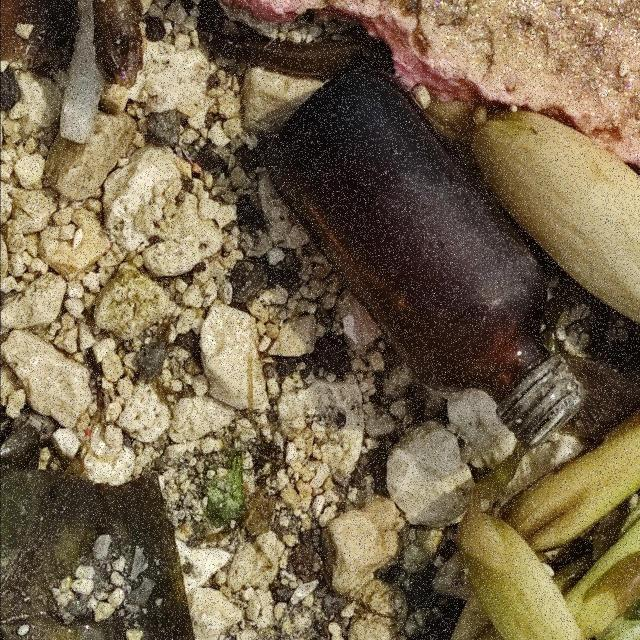glass_waste: (263, 62, 590, 453)
